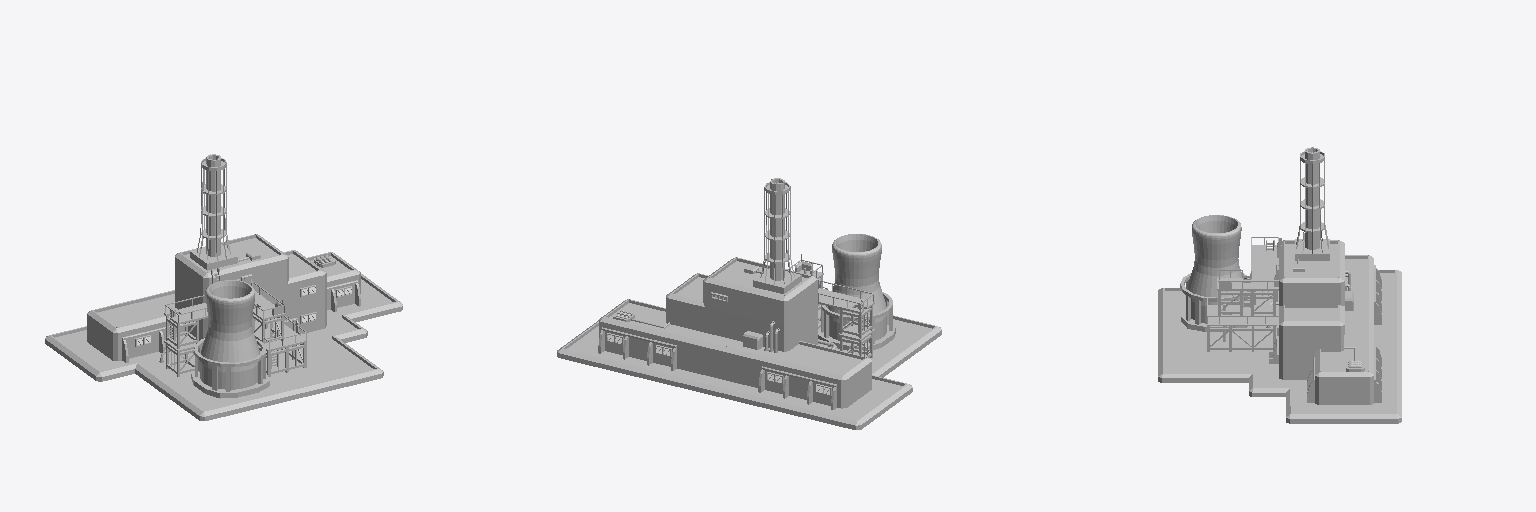
Rendered from Nuclear station.obj.
3 views of the same model, side by side, from view 1: azimuth 30°, elevation 25°; view 2: azimuth 150°, elevation 25°; view 3: azimuth 270°, elevation 25° (orthographic).
Parts seen in each view (by area): view 1: Cube.038_Cube.103; view 2: Cube.038_Cube.103; view 3: Cube.038_Cube.103.
Part boxes in pixels (x1,y1,x2,y2): Cube.038_Cube.103: (45,154,402,420); Cube.038_Cube.103: (557,178,941,429); Cube.038_Cube.103: (1158,147,1401,423).
Bounding box in the file's own units: 11.87 × 6.97 × 8.23.